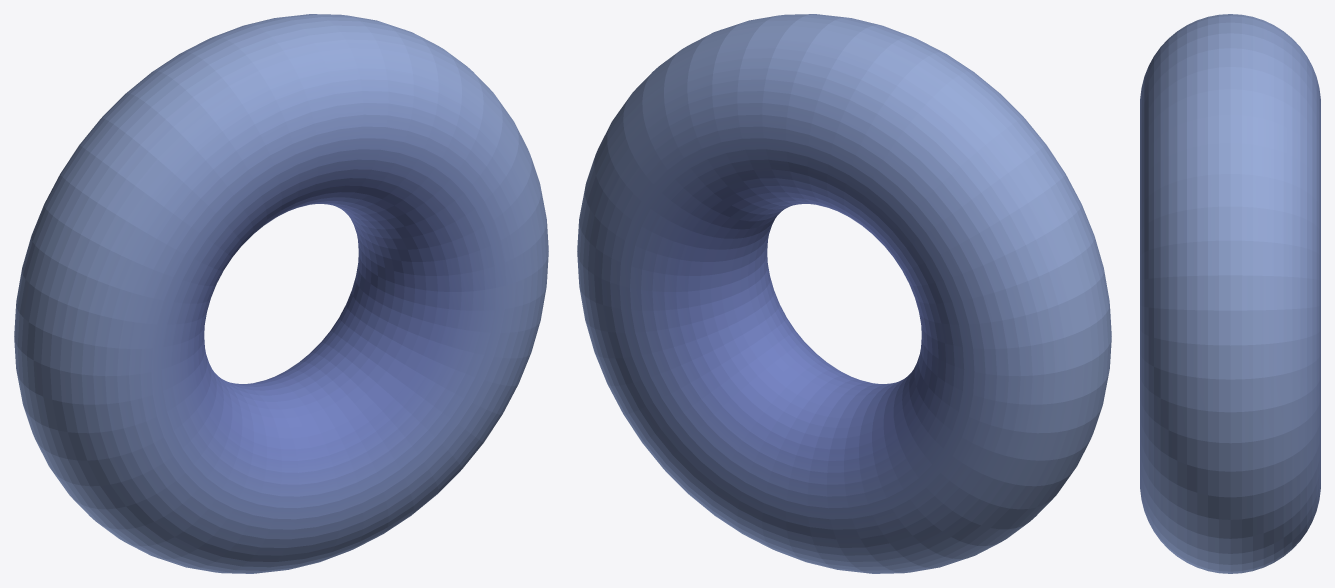
3 renders of one model, left to right at view 1: azimuth 30°, elevation 25°; view 2: azimuth 150°, elevation 25°; view 3: azimuth 270°, elevation 25°, orthographic. The views are drawn at different scales.
Parts seen in each view (by area): view 1: world; view 2: world; view 3: world.
Part boxes in pixels (x1=…): world: x1=14, y1=14, x2=548, y2=573; world: x1=577, y1=14, x2=1111, y2=573; world: x1=1140, y1=14, x2=1320, y2=573.
Bounding box in the file's own units: 17.73 × 17.7 × 5.72.
